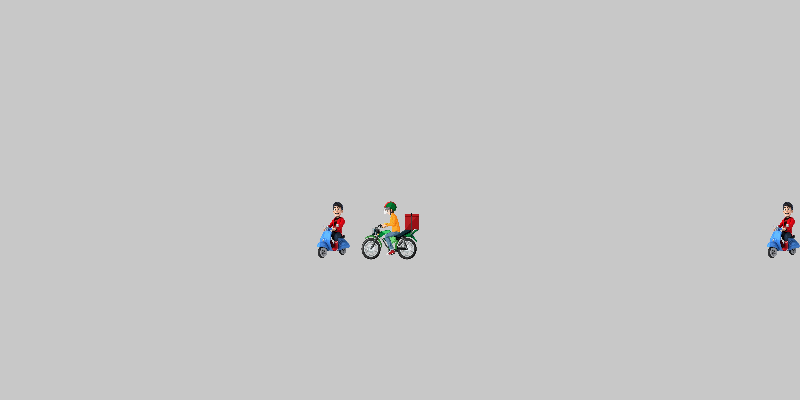helmet: (360, 200, 420, 260)
no_helmet: (305, 200, 365, 260), (755, 200, 800, 260)
